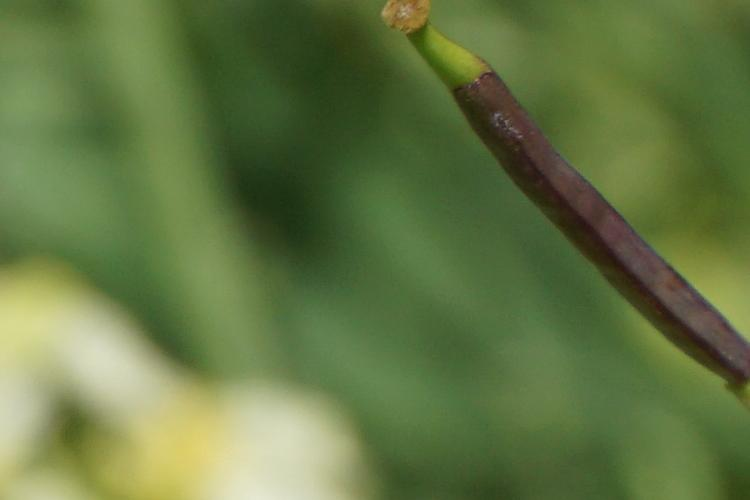pod: (378, 4, 750, 406)
